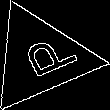P_SW: (6, 30, 74, 85)
